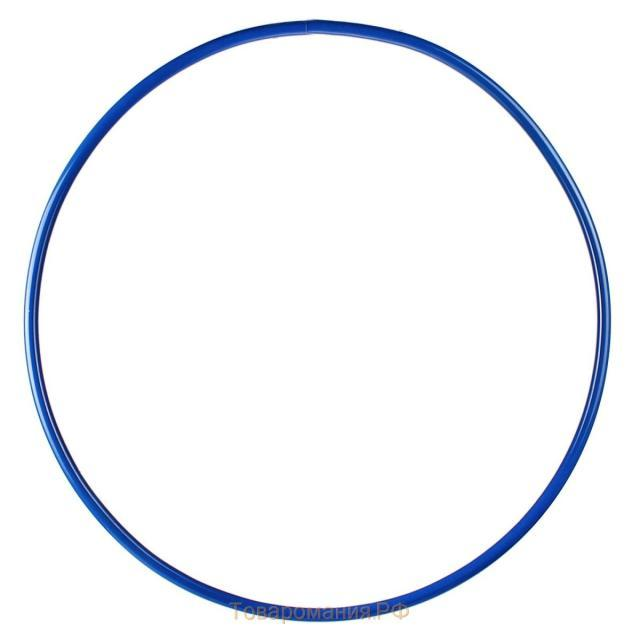Circle: (25, 19, 612, 623)
